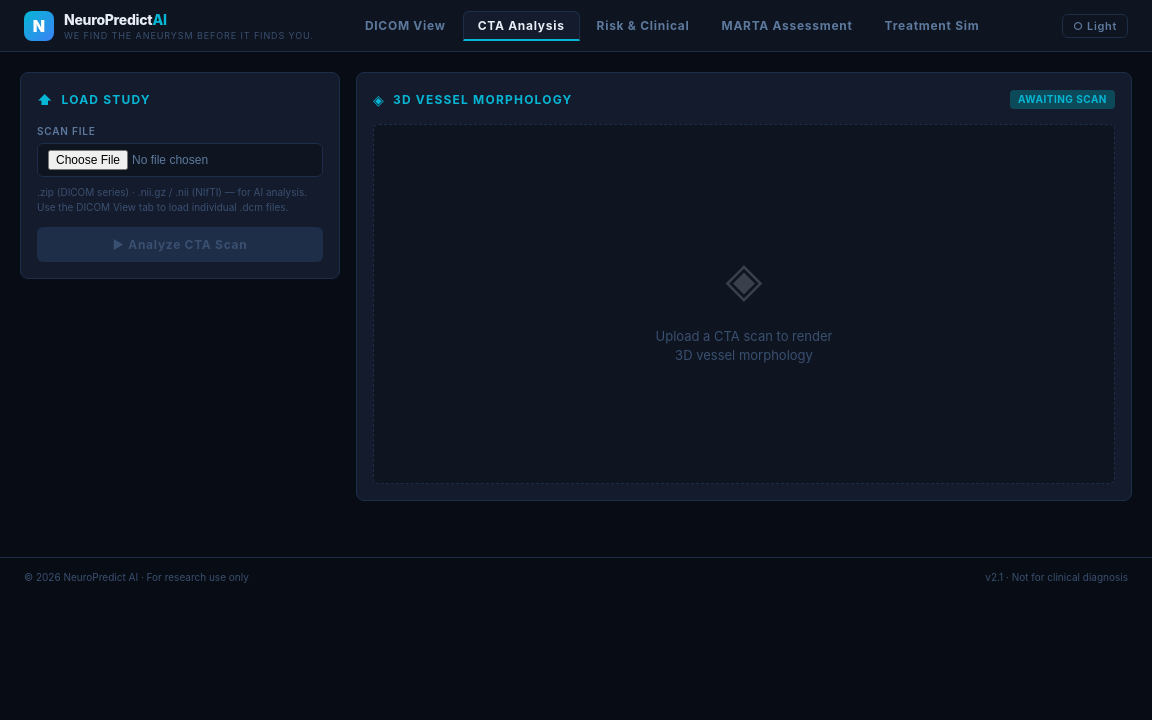
Test: App › shows ClinicalForm when Risk & Clinical tab is clicked
Click the button "Risk & Clinical". click: (643, 26)
box: [582,11,704,41]
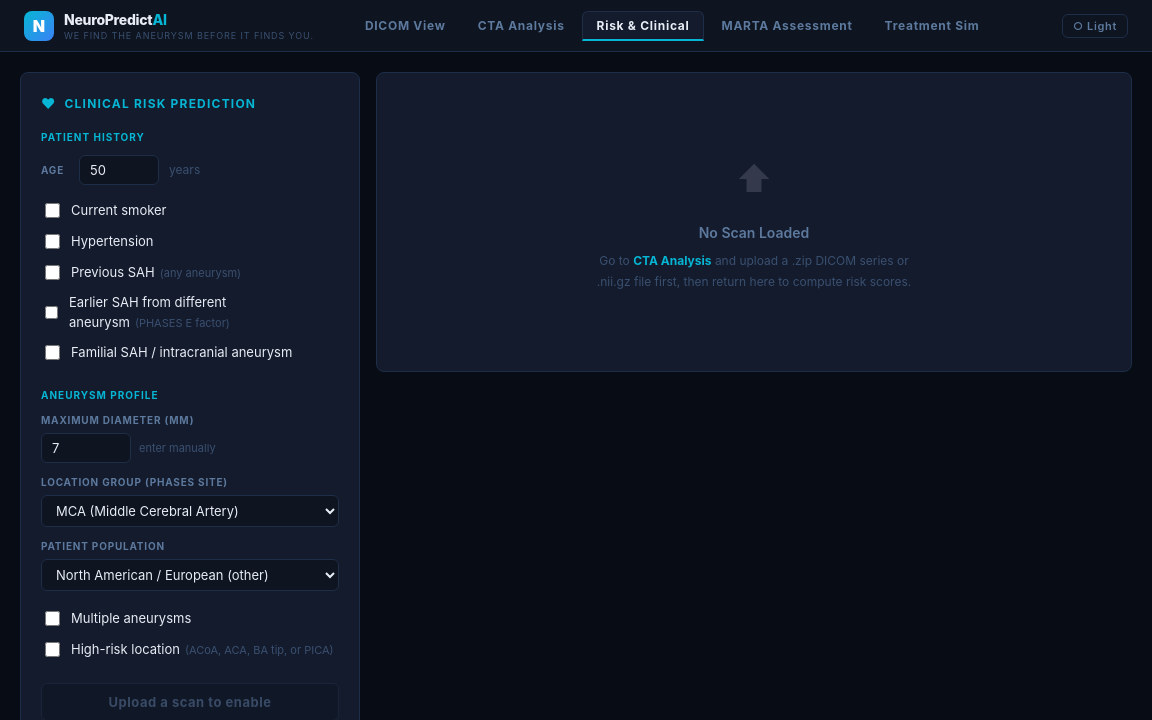
Expected: the text "Patient History" is shown, [41,131,145,143]
Expected: the button "Upload a scan to enable" is shown, [41,683,339,719]
